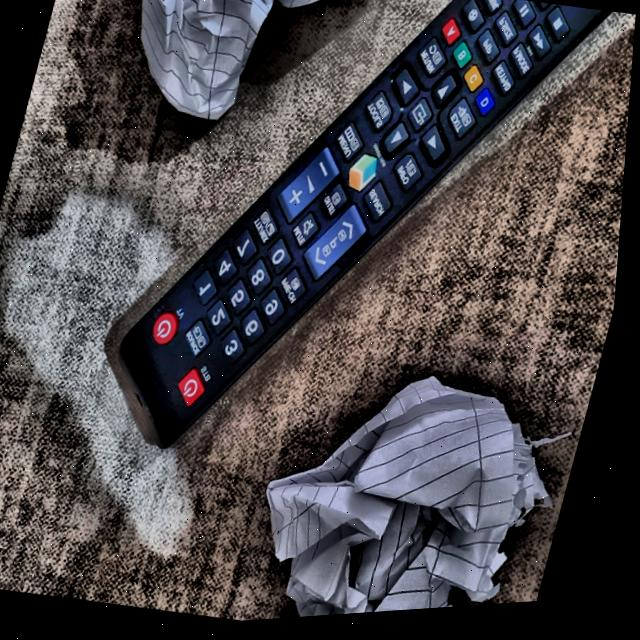paper: (243, 325, 587, 625), (87, 0, 386, 179)
